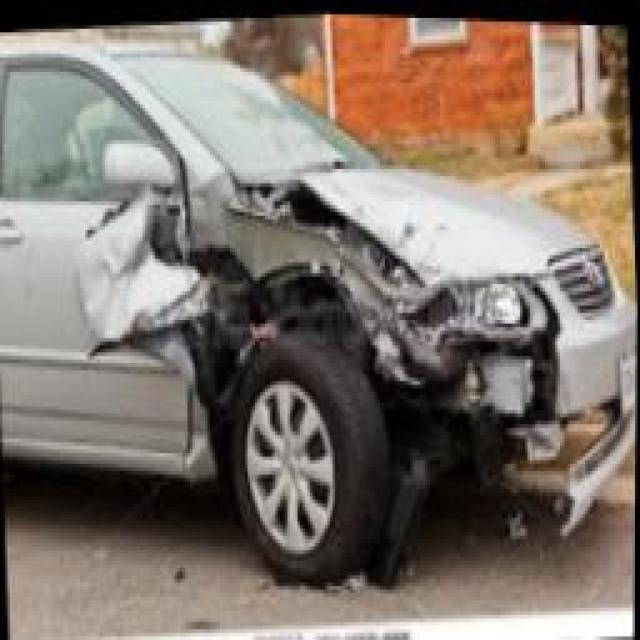Bonnet: (226, 157, 545, 305)
Bumper: (383, 306, 637, 528)
Fender: (180, 213, 399, 475)
Light: (390, 269, 561, 351)
